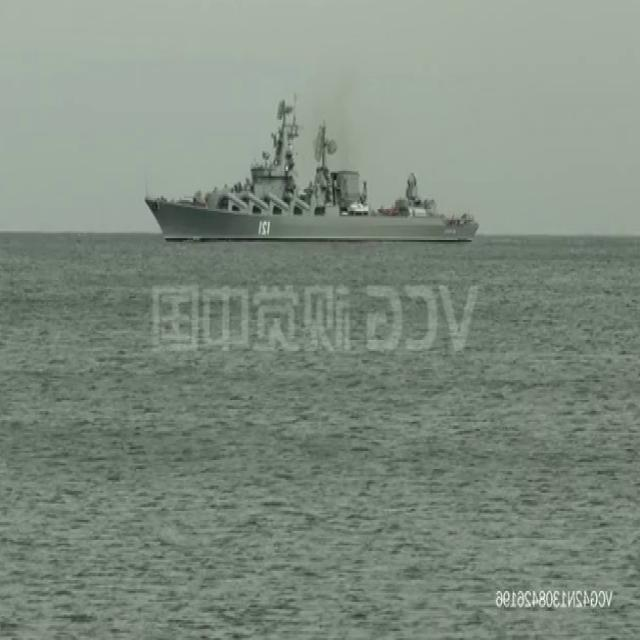navalvessels: (146, 108, 479, 246)
